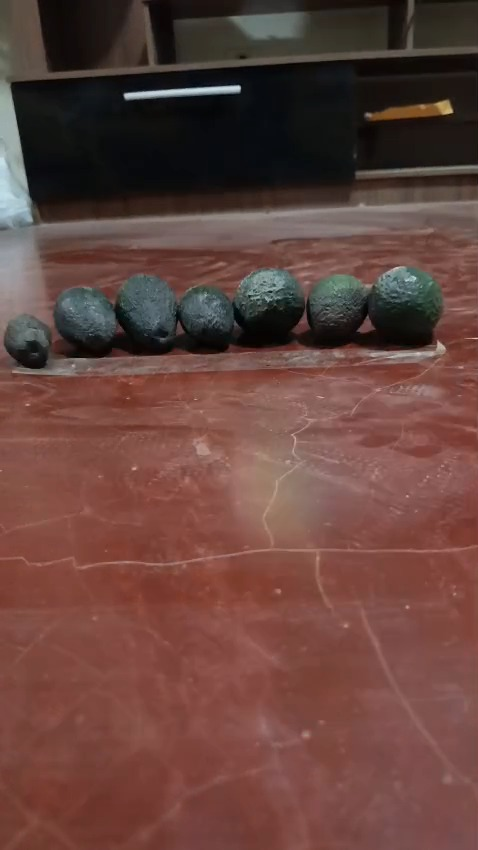Primera: (368, 264, 444, 344), (233, 267, 305, 342), (114, 271, 179, 352)
Segunda: (305, 272, 370, 343), (54, 285, 117, 354), (177, 283, 234, 349)
Tercera: (3, 313, 53, 368)
